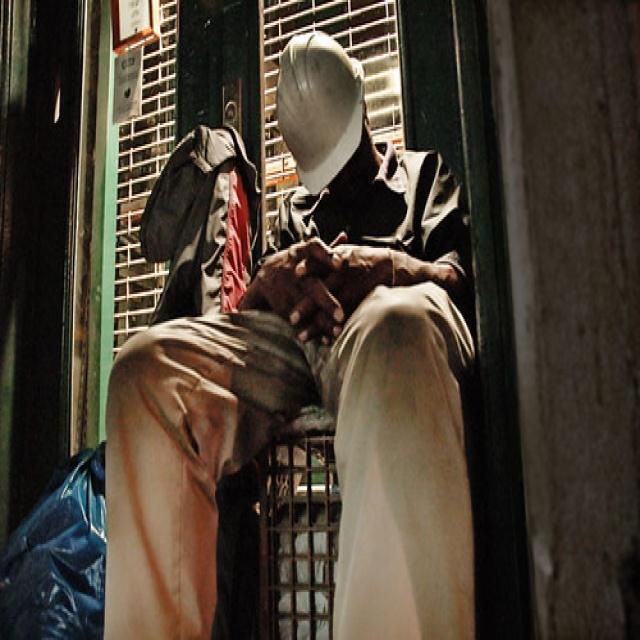helmet: (273, 36, 366, 249)
